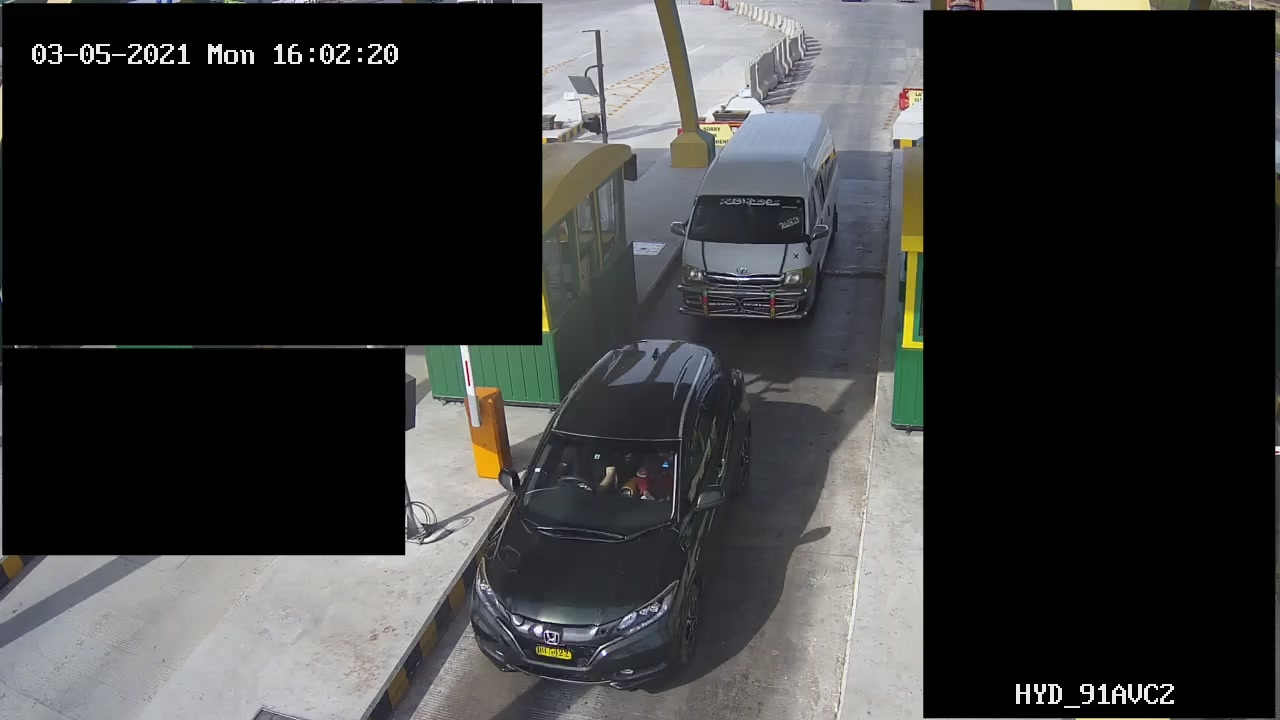F2: (678, 108, 850, 335)
